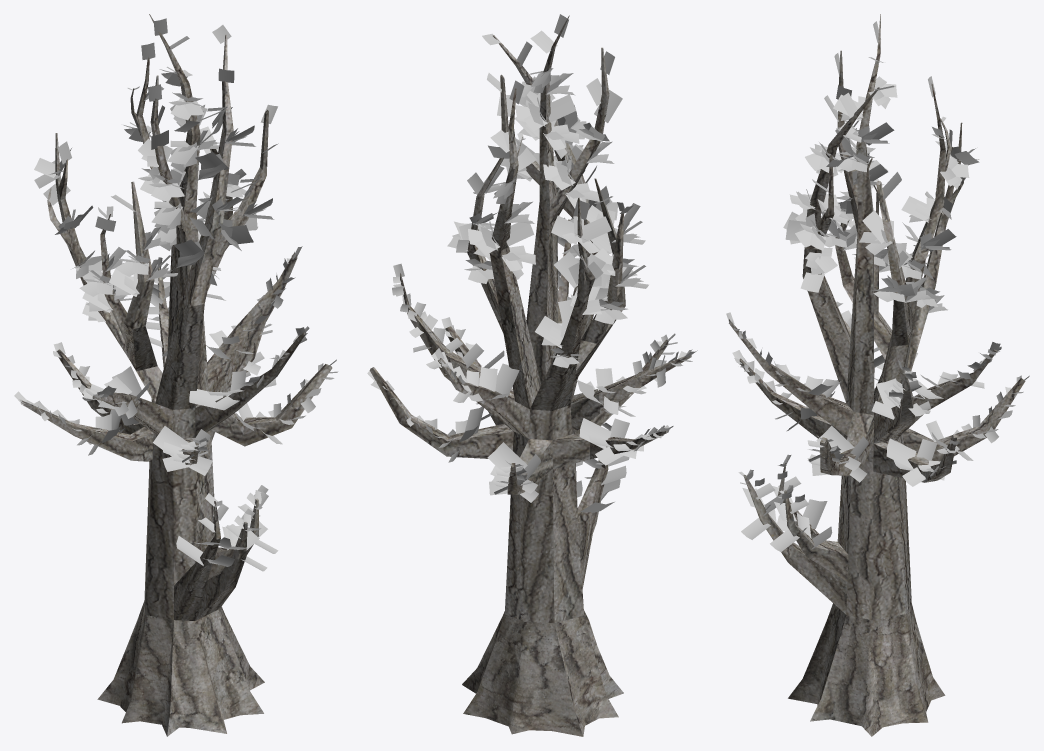
The model's file is Tree_02.fbx.
The picture shows the model from 3 angles, left to right: view 1: azimuth 30°, elevation 25°; view 2: azimuth 150°, elevation 25°; view 3: azimuth 270°, elevation 25°; orthographic projection. The views are drawn at different scales.
Parts seen in each view (by area): view 1: Tree; view 2: Tree, Leaf1; view 3: Tree, Leaf1.
Boxes of the visible parts, box(x1,y1,x2,y2) form: Tree: box(21, 14, 332, 736); Tree: box(369, 15, 691, 736); Leaf1: box(487, 442, 527, 477); Tree: box(729, 14, 1025, 736); Leaf1: box(886, 438, 916, 468).
Size of the model in its own units: 23.6 by 55.5 by 22.79.
